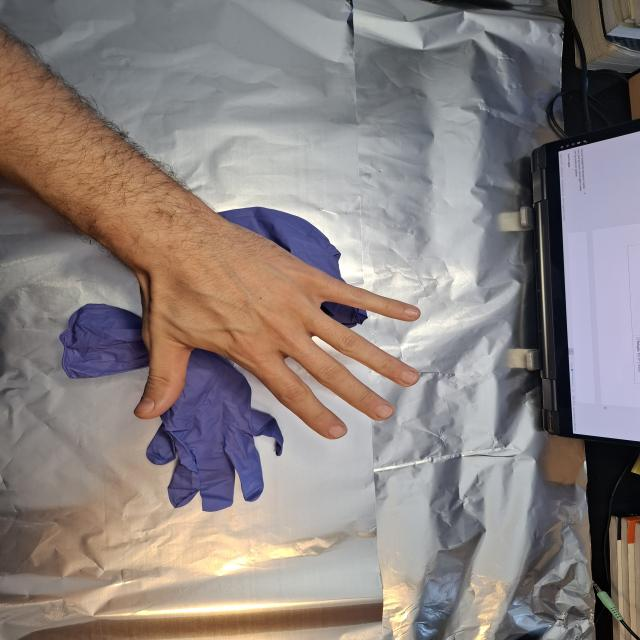glove_off: (130, 214, 423, 442)
